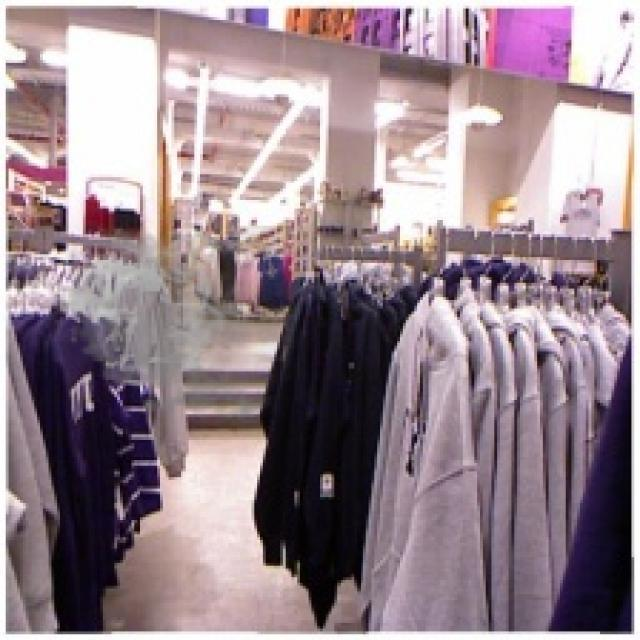Smoke: (46, 225, 294, 426)
